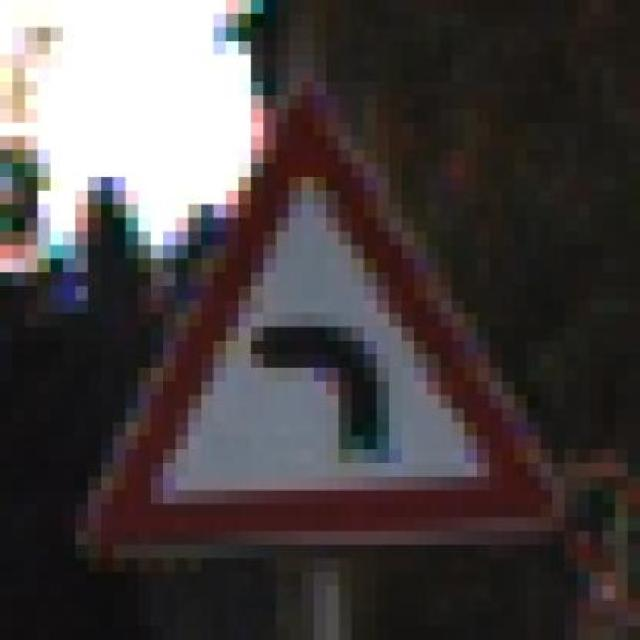Dangerous Left Curve Ahead: (75, 81, 578, 558)
